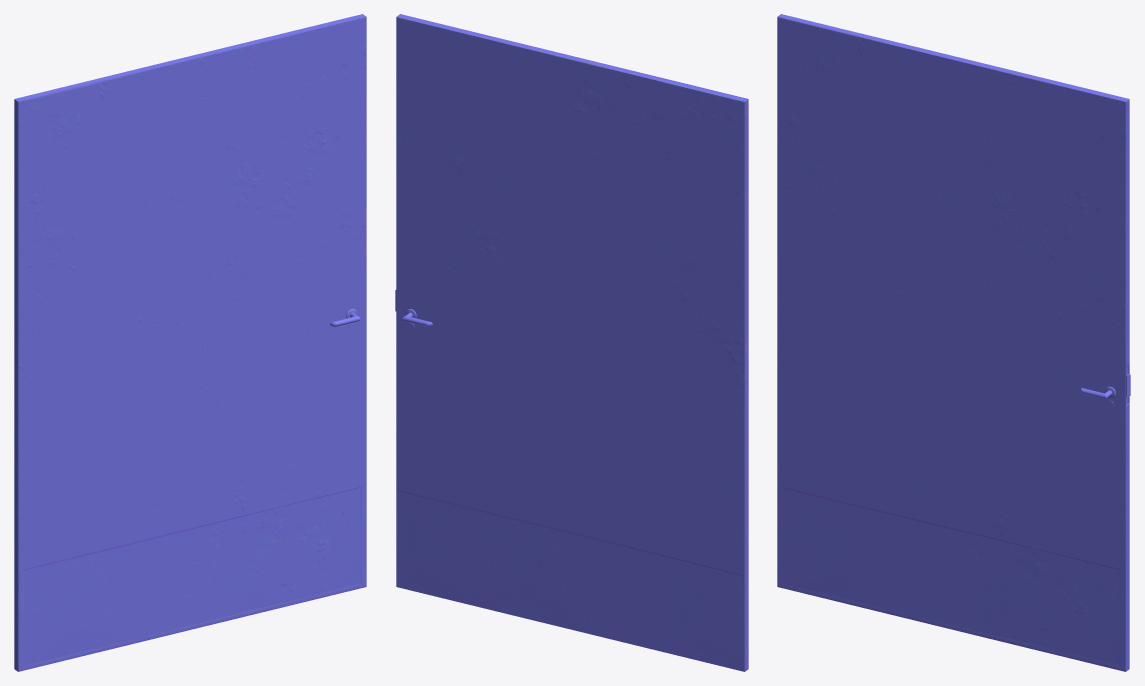
File: Door Type B 1.fbx
3 views of the same model, side by side, from view 1: azimuth 30°, elevation 25°; view 2: azimuth 150°, elevation 25°; view 3: azimuth 330°, elevation 25° (orthographic).
Parts seen in each view (by area): view 1: Door7; view 2: Door7; view 3: Door7.
Boxes of the visible parts, x1,y1,x2,y2 form: Door7: (14,14,366,671); Door7: (395,14,748,671); Door7: (777,14,1130,671).
Size of the model in its own units: 151 by 234 by 13.27.
